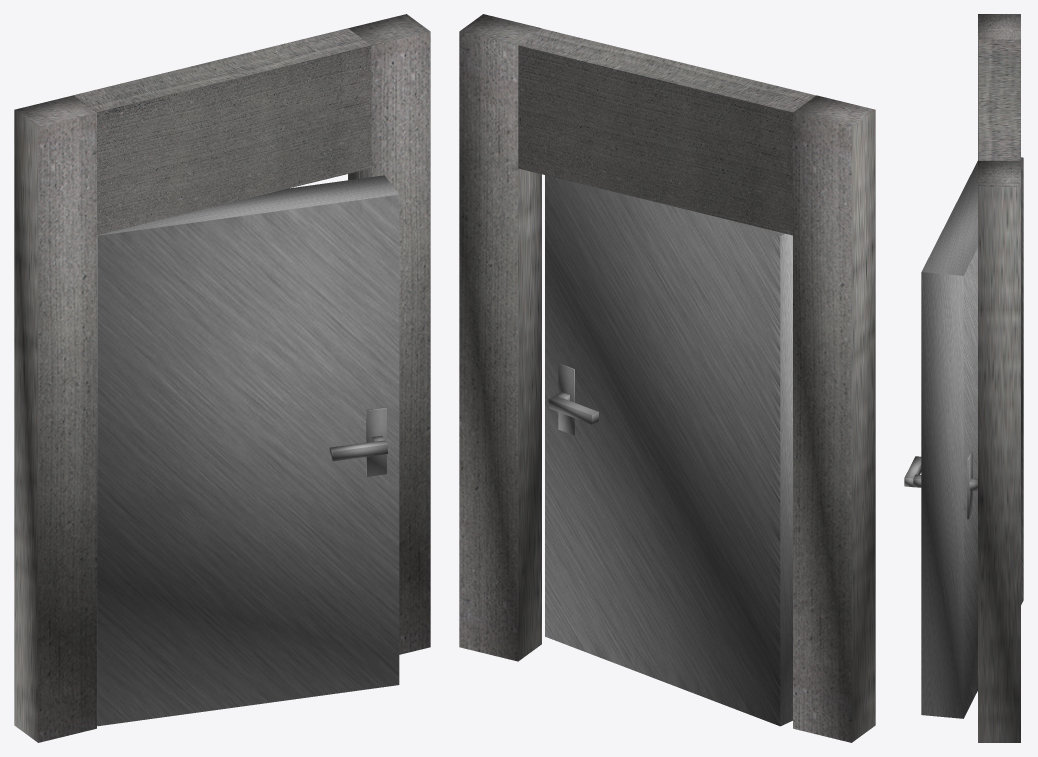
Rendered from metaldoor_000009.obj.
The picture shows the model from 3 angles, left to right: view 1: azimuth 30°, elevation 25°; view 2: azimuth 150°, elevation 25°; view 3: azimuth 270°, elevation 25°; orthographic projection. The views are drawn at different scales.
Visible parts, largest first — view 1: Cube.004_Cube.005, Cube.006_Cube.007; view 2: Cube.006_Cube.007, Cube.004_Cube.005; view 3: Cube.006_Cube.007, Cube.004_Cube.005.
Part boxes in pixels (bbox=[...]): Cube.004_Cube.005: bbox=[97, 175, 399, 726]; Cube.006_Cube.007: bbox=[14, 14, 430, 742]; Cube.006_Cube.007: bbox=[459, 14, 875, 742]; Cube.004_Cube.005: bbox=[545, 175, 792, 726]; Cube.006_Cube.007: bbox=[978, 14, 1020, 742]; Cube.004_Cube.005: bbox=[904, 157, 1023, 718].
Size of the model in its own units: 2 by 3 by 0.5821.
